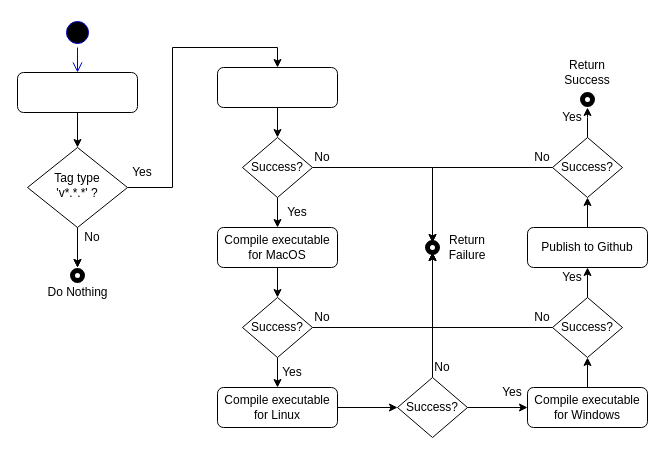
Image size: 665x455. Some labels were removed from this diagram. The shapes that lost their labels are listed below. From the top down, each one's centre as x and y in pixels, then its label:
the point at 77,92: Event triggers workflow (any branch)
the point at 277,87: Setup, restore and build solution
